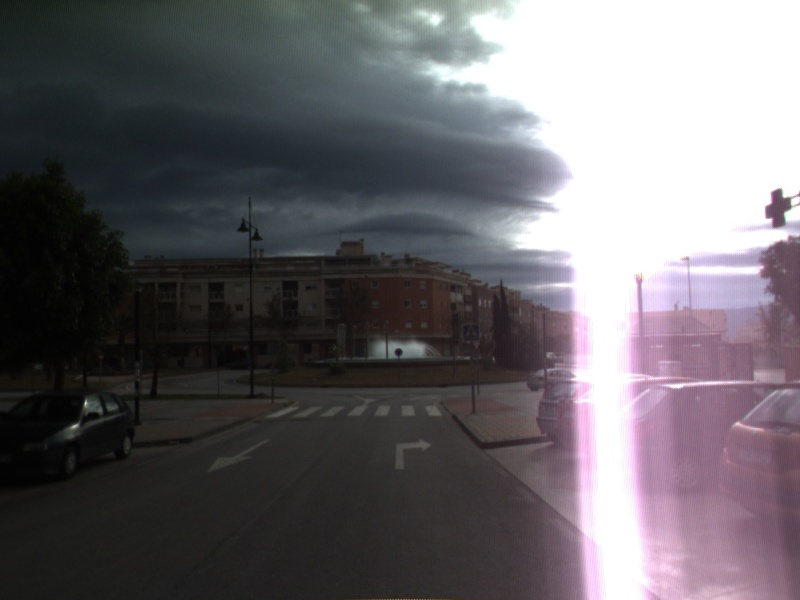RIGHT: (393, 436, 434, 471)
